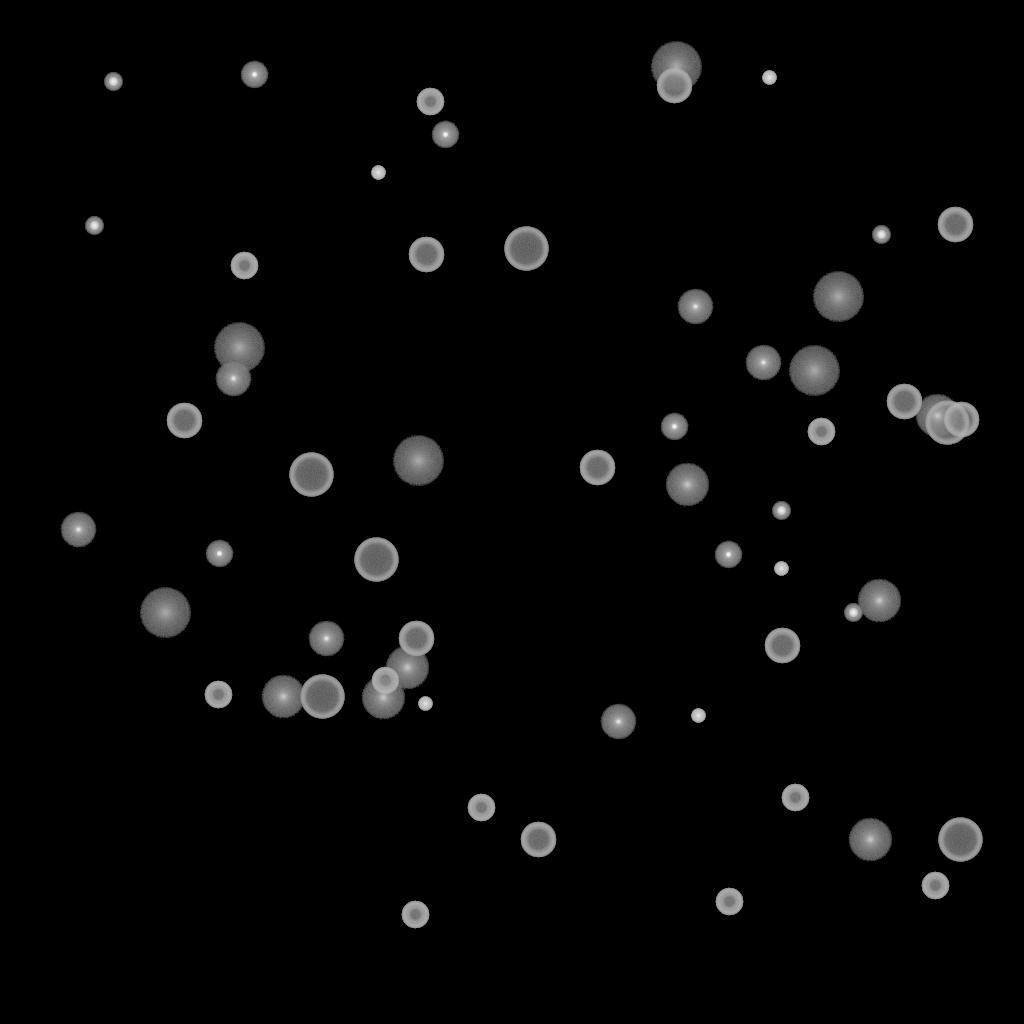depth:-10: (240, 61, 268, 89), (205, 540, 233, 568), (431, 121, 459, 149), (714, 541, 742, 569), (660, 413, 688, 441)
depth:-20: (104, 73, 122, 91), (85, 217, 103, 235), (844, 604, 862, 622), (772, 502, 790, 520), (872, 226, 890, 244)
depth:-30: (762, 71, 776, 85), (418, 697, 432, 711), (774, 562, 788, 576), (371, 166, 385, 180), (691, 709, 705, 723)
depth:-50: (781, 784, 809, 812), (807, 418, 835, 446), (204, 681, 232, 709), (401, 901, 429, 929), (230, 252, 258, 280), (416, 88, 444, 116), (921, 872, 949, 900), (467, 794, 495, 822), (371, 667, 399, 695), (715, 888, 743, 916)
depth:-60: (398, 621, 434, 657), (943, 402, 979, 438), (886, 384, 922, 420), (656, 68, 692, 104), (408, 237, 444, 273), (764, 628, 800, 664), (166, 403, 202, 439), (520, 822, 556, 858), (937, 207, 973, 243), (579, 450, 615, 486)
depth:-70: (504, 227, 548, 271), (300, 675, 344, 719), (938, 818, 982, 862), (289, 453, 333, 497), (354, 538, 398, 582), (925, 401, 969, 445)
depth:0: (215, 361, 251, 397), (677, 289, 713, 325), (745, 345, 781, 381), (600, 704, 636, 740), (308, 621, 344, 657), (60, 512, 96, 548)
depth:10: (261, 675, 305, 719), (385, 646, 429, 690), (665, 463, 709, 507), (915, 394, 959, 438), (848, 818, 892, 862), (857, 579, 901, 623), (361, 676, 405, 720)
depth:20: (650, 42, 702, 92), (139, 588, 191, 638), (812, 272, 864, 322), (788, 346, 840, 396), (213, 323, 265, 373), (392, 436, 444, 486)
